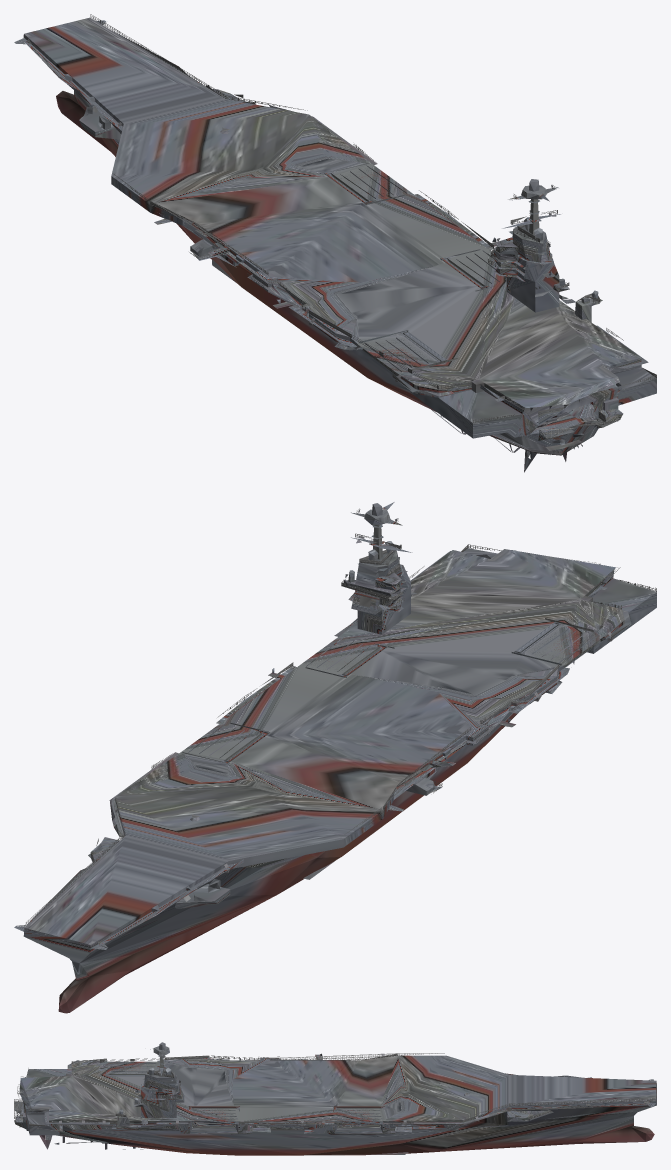
The picture shows the model from 3 angles, top to bottom: view 1: azimuth 30°, elevation 25°; view 2: azimuth 150°, elevation 25°; view 3: azimuth 270°, elevation 25°; orthographic projection. The views are drawn at different scales.
Visible parts, largest first — view 1: Object_2, Object_3; view 2: Object_2, Object_3; view 3: Object_2, Object_3.
Boxes of the visible parts, left/top/right/bottom form: Object_2: left=14, top=17, right=656, bottom=472; Object_3: left=90, top=14, right=656, bottom=441; Object_2: left=14, top=502, right=656, bottom=1013; Object_3: left=25, top=508, right=656, bottom=925; Object_2: left=14, top=1042, right=656, bottom=1155; Object_3: left=14, top=1052, right=655, bottom=1126.
Bounding box in the file's own units: 106 × 85.01 × 397.
Materials: 2 (2 with a texture image).
